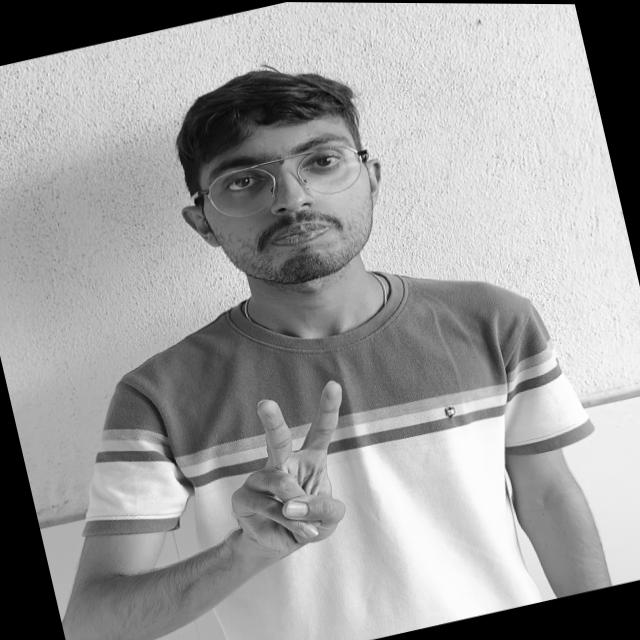Victory: (162, 346, 450, 602)
